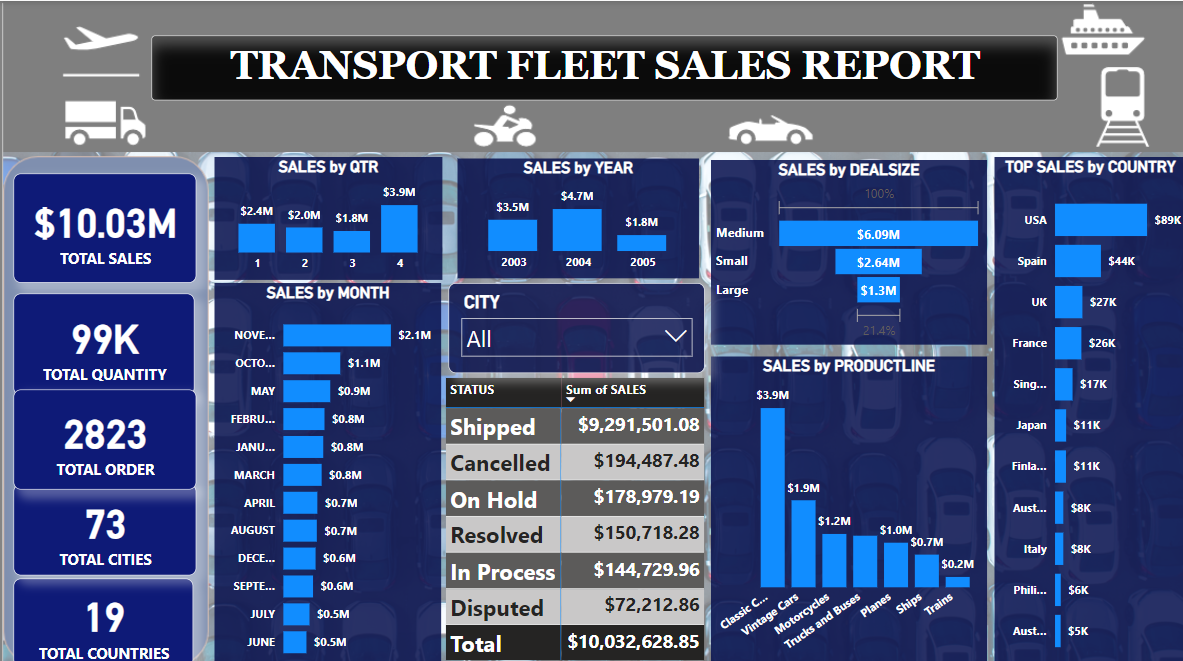

The page's visual inventory and layout, read from the dashboard file:
{"tool":"powerbi","page":{"name":"SUMMARY","canvas":[1280,720],"ordinal":1},"visuals":[{"type":"clusteredBarChart","fields":{"Category":["sales_data_sample1.MONTH"],"Y":["Sum(sales_data_sample1.SALES)"]},"box":[232.2,303.8,245,416.7],"z":0},{"type":"pivotTable","fields":{"Rows":["sales_data_sample1.STATUS"],"Values":["Sum(sales_data_sample1.SALES)"]},"box":[476.1,401.6,289.8,319],"z":1000},{"type":"card","fields":{"Values":["Sum(sales_data_sample1.SALES)"]},"box":[14.3,186.1,197.2,117.7],"z":2000},{"type":"lineClusteredColumnComboChart","fields":{"Y":["Sum(sales_data_sample1.SALES)"],"Category":["sales_data_sample1.QTR"]},"box":[231.5,168.4,246.1,132.8],"z":3000},{"type":"funnel","fields":{"Category":["sales_data_sample1.DEALSIZE"],"Y":["Sum(sales_data_sample1.SALES)"]},"box":[767.5,171.6,297.9,199.2],"z":4000},{"type":"clusteredBarChart","fields":{"Category":["sales_data_sample1.COUNTRY"],"Y":["Sum(sales_data_sample1.SALES)"]},"box":[1073.5,168.4,207.3,552.2],"z":5000},{"type":"lineClusteredColumnComboChart","fields":{"Category":["sales_data_sample1.PRODUCTLINE"],"Y":["Sum(sales_data_sample1.SALES)"]},"box":[767.5,383.8,297.9,336.8],"z":6000},{"type":"card","fields":{"Values":["Count(sales_data_sample1.COUNTRY)"]},"box":[14.3,623.5,194.1,95.4],"z":7000},{"type":"card","fields":{"Values":["Count(sales_data_sample1.CITY)"]},"box":[14.3,521.7,197.2,98.6],"z":8000},{"type":"card","fields":{"Values":["Sum(sales_data_sample1.QUANTITYORDERED)"]},"box":[14.3,316.5,195.6,109.8],"z":9000},{"type":"card","fields":{"Values":["CountNonNull(sales_data_sample1.ORDERNUMBER)"]},"box":[14.3,419.9,197.2,108.2],"z":10000},{"type":"textbox","box":[163.8,36.6,978.2,70],"z":11000},{"type":"lineClusteredColumnComboChart","fields":{"Category":["sales_data_sample1.YEAR"],"Y":["Sum(sales_data_sample1.SALES)"]},"box":[493.9,170,260.7,129.5],"z":12000},{"type":"slicer","fields":{"Values":["sales_data_sample1.CITY"]},"box":[484.1,304.4,276.9,97.2],"z":13000}]}

Visuals, with their boxes in screenshot pixels (x1, y1, x2, y2), scaled from the page's 1280x720 canvas onto the 1183x661 screenshot:
clusteredBarChart - sales_data_sample1.MONTH x Sum(sales_data_sample1.SALES): x1=215 y1=279 x2=441 y2=660
pivotTable - sales_data_sample1.STATUS x Sum(sales_data_sample1.SALES): x1=440 y1=369 x2=708 y2=660
card - Sum(sales_data_sample1.SALES): x1=13 y1=171 x2=195 y2=279
lineClusteredColumnComboChart - Sum(sales_data_sample1.SALES) x sales_data_sample1.QTR: x1=214 y1=155 x2=441 y2=277
funnel - sales_data_sample1.DEALSIZE x Sum(sales_data_sample1.SALES): x1=709 y1=158 x2=985 y2=340
clusteredBarChart - sales_data_sample1.COUNTRY x Sum(sales_data_sample1.SALES): x1=992 y1=155 x2=1182 y2=660
lineClusteredColumnComboChart - sales_data_sample1.PRODUCTLINE x Sum(sales_data_sample1.SALES): x1=709 y1=352 x2=985 y2=660
card - Count(sales_data_sample1.COUNTRY): x1=13 y1=572 x2=193 y2=660
card - Count(sales_data_sample1.CITY): x1=13 y1=479 x2=195 y2=569
card - Sum(sales_data_sample1.QUANTITYORDERED): x1=13 y1=291 x2=194 y2=391
card - CountNonNull(sales_data_sample1.ORDERNUMBER): x1=13 y1=385 x2=195 y2=485
textbox: x1=151 y1=34 x2=1055 y2=98
lineClusteredColumnComboChart - sales_data_sample1.YEAR x Sum(sales_data_sample1.SALES): x1=456 y1=156 x2=697 y2=275
slicer - sales_data_sample1.CITY: x1=447 y1=279 x2=703 y2=369
